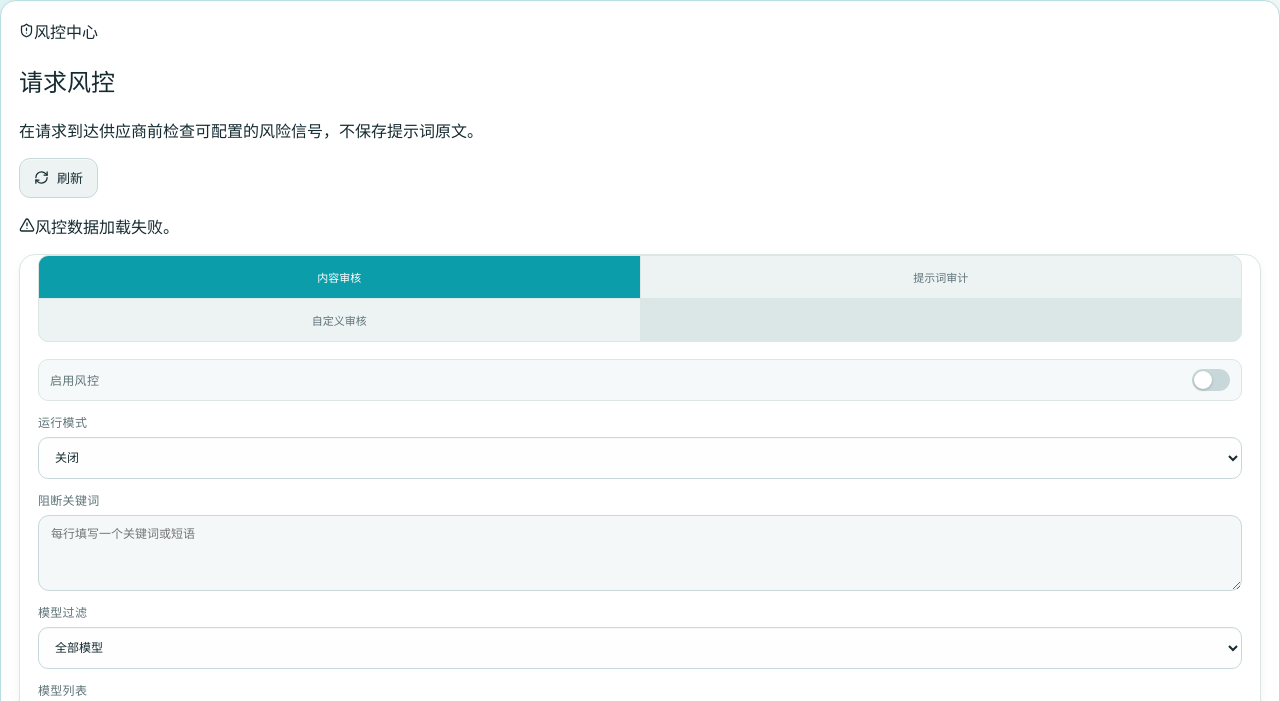
Test: RiskControlWorkspace › shows CPA model status for native audit sources instead of an API key warning
The width and height of the screenshot is (1280, 701).
Click the tab "提示词审计": click(941, 277) top-left (640, 256), bottom-right (1241, 298)
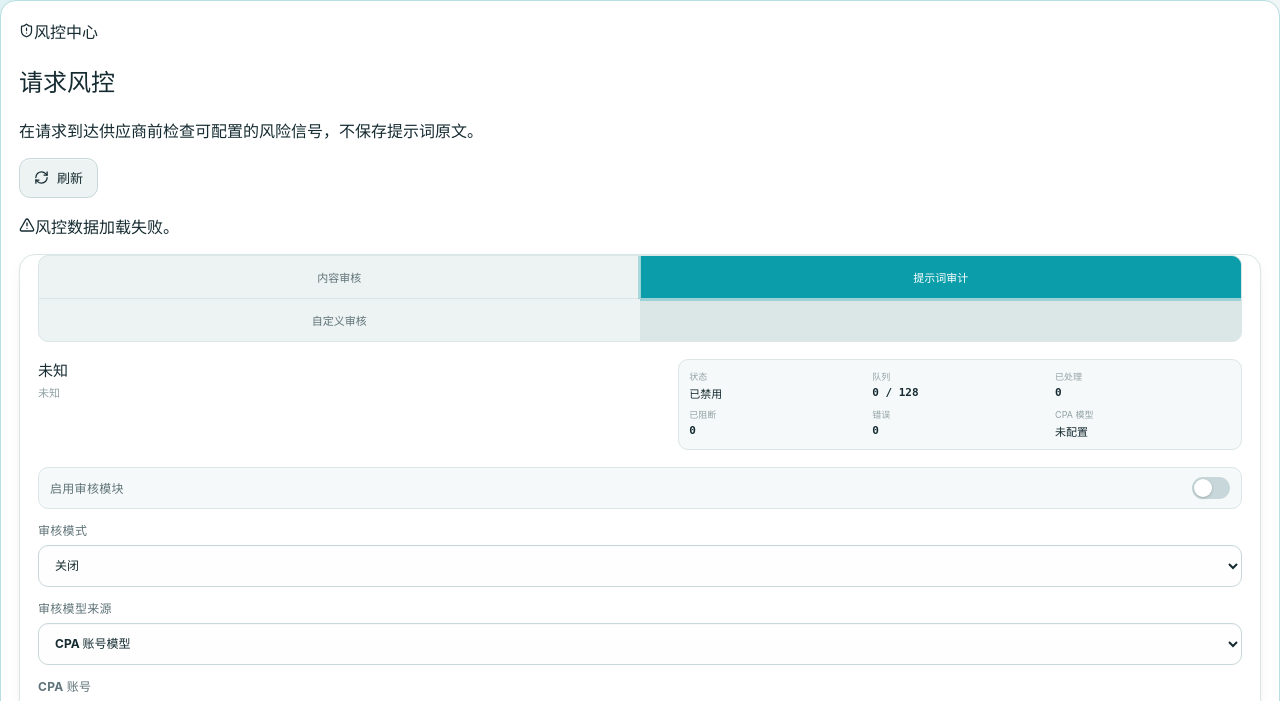
expect the message "状态 已禁用 队列 0 / 128 已处理 0 已阻断 0 错误 0 CPA 模型 未配置" is shown: met, box top-left (678, 359), bottom-right (1242, 450)
expect the message with class "risk-audit-status" shows "CPA 模型": met, box top-left (1055, 409), bottom-right (1094, 420)
expect the message with class "risk-audit-status" shows "未配置": met, box top-left (1055, 426), bottom-right (1088, 439)
